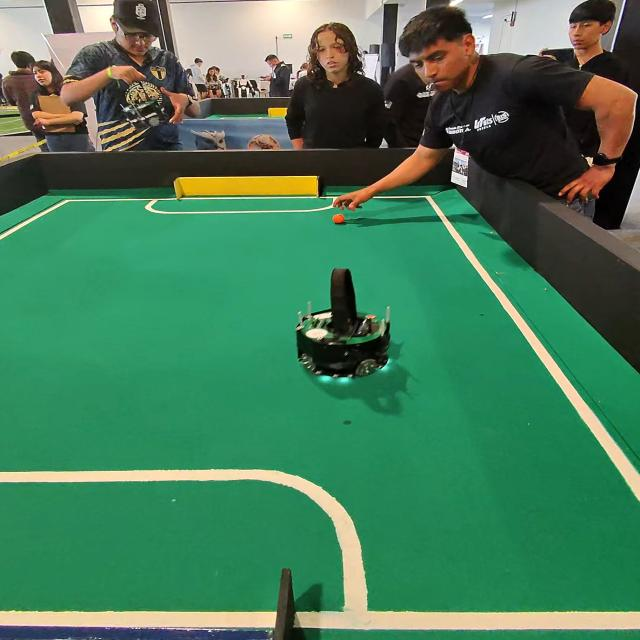Robot: (293, 257, 404, 403)
pelota: (314, 211, 364, 234)
